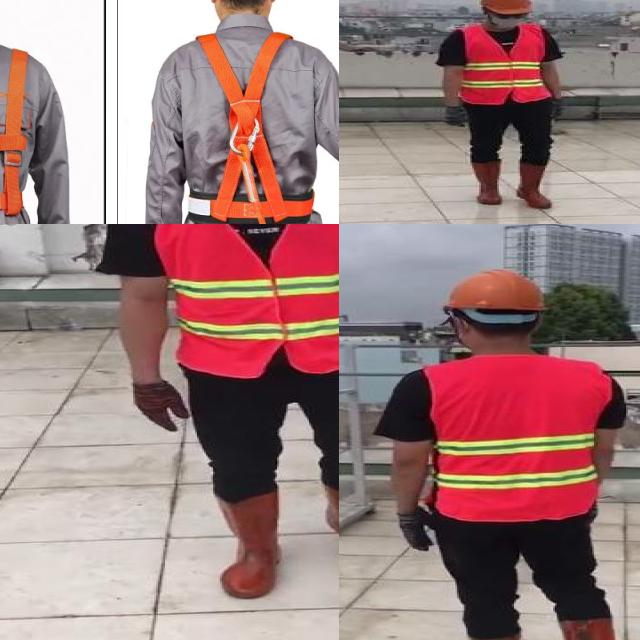Harness: (187, 29, 318, 224), (0, 47, 30, 218)
boots: (210, 491, 282, 600), (515, 160, 554, 209), (468, 159, 508, 206), (556, 618, 631, 640)
face_mask: (488, 10, 527, 30)
glasses: (491, 12, 532, 21)
hand_glove: (134, 380, 192, 431), (393, 511, 441, 550), (442, 105, 468, 128), (545, 100, 568, 122), (587, 500, 599, 529)
head_helmet: (443, 264, 546, 314), (471, 0, 537, 17)
person: (377, 263, 640, 640), (111, 224, 339, 613), (432, 0, 570, 221)
vest: (424, 356, 606, 520), (145, 224, 339, 374), (456, 26, 554, 104)
